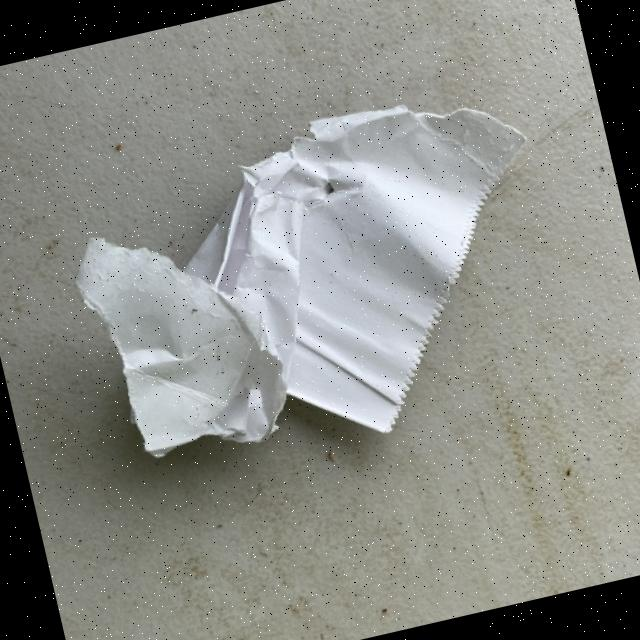paper: (51, 71, 584, 492)
